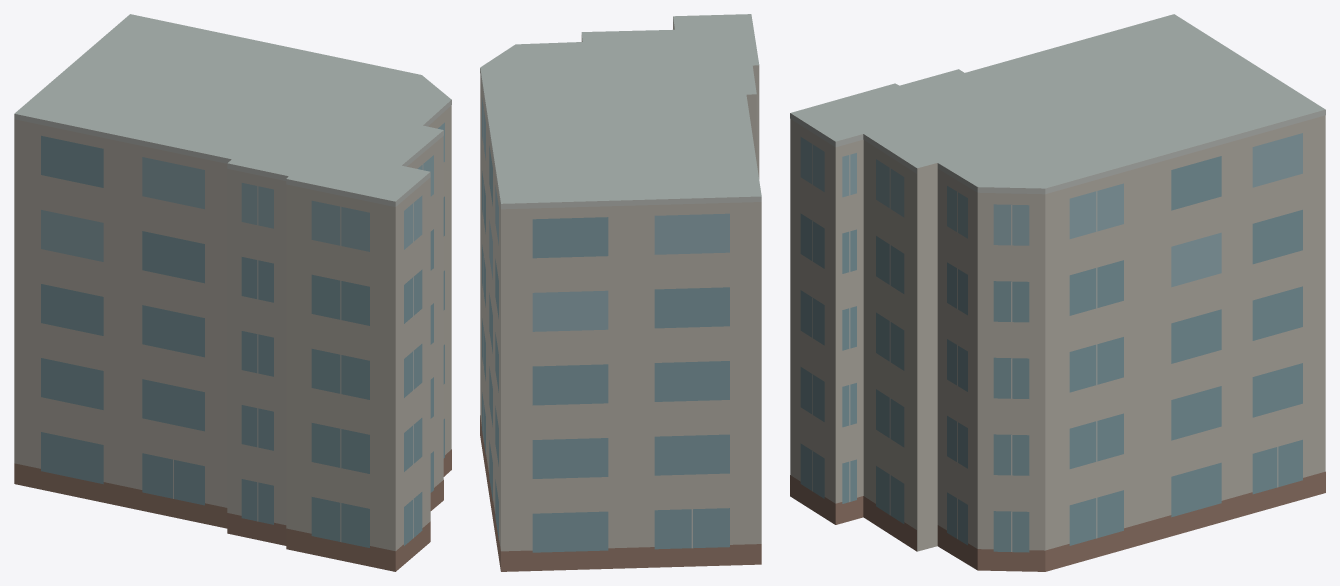
File: survey-upis-32721154.glb
3 renders of one model, left to right at view 1: azimuth 30°, elevation 25°; view 2: azimuth 150°, elevation 25°; view 3: azimuth 270°, elevation 25°, orthographic. The views are drawn at different scales.
Visible parts, largest first — view 1: survey-upis-32721154.tmp; view 2: survey-upis-32721154.tmp; view 3: survey-upis-32721154.tmp.
Part boxes in pixels (x1=…): survey-upis-32721154.tmp: x1=14, y1=14, x2=451, y2=571; survey-upis-32721154.tmp: x1=480, y1=14, x2=761, y2=571; survey-upis-32721154.tmp: x1=790, y1=14, x2=1325, y2=571.
Size of the model in its own units: 16.12 by 16.5 by 20.9.
